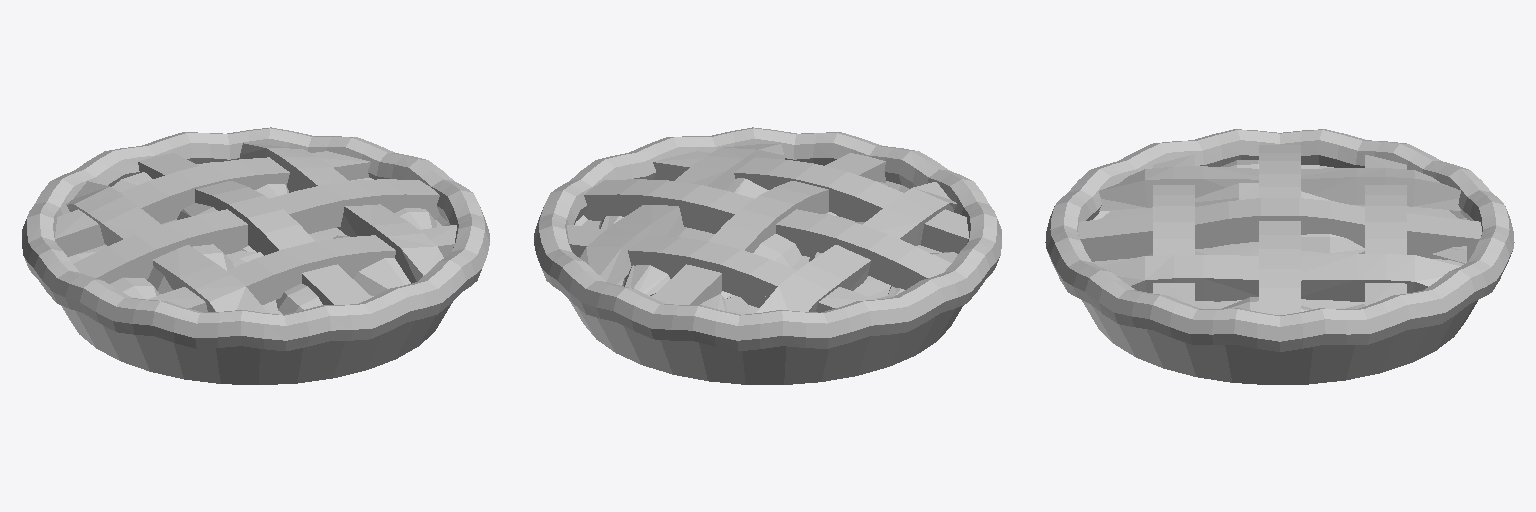
The model's file is fishPie.obj.
3 renders of one model, left to right at view 1: azimuth 30°, elevation 25°; view 2: azimuth 150°, elevation 25°; view 3: azimuth 270°, elevation 25°, orthographic.
Parts seen in each view (by area): view 1: Crust, Cube.004, Pan, Cube.001, Cube, Cube.002, Cube.003, Fish.002|Cone|Dupli|, Fish.005|Cone|Dupli|, Fish.004|Cone|Dupli|, Fish|Cone|Dupli|, FakeFishLayer (+2 smaller); view 2: Crust, Cube.004, Pan, Cube.001, Cube, Cube.002, Cube.003, FakeFishLayer, Fish.001|Cone|Dupli|, Fish.006|Cone|Dupli|; view 3: Crust, Pan, Cube, Cube.003, Cube.002, Cube.004, Cube.001, FakeFishLayer, Fish.001|Cone|Dupli|, Fish|Cone|Dupli|.
Boxes of the visible parts, <box> form: Crust: <box>22,127,489,350</box>; Cube.004: <box>55,151,456,312</box>; Pan: <box>62,302,452,384</box>; Cube.001: <box>73,179,439,283</box>; Cube: <box>138,153,371,304</box>; Cube.002: <box>66,181,267,312</box>; Cube.003: <box>239,143,443,283</box>; Fish.002|Cone|Dupli|: <box>333,235,410,296</box>; Fish.005|Cone|Dupli|: <box>233,252,322,314</box>; Fish.004|Cone|Dupli|: <box>68,251,159,299</box>; Fish|Cone|Dupli|: <box>147,244,233,293</box>; FakeFishLayer: <box>70,215,449,314</box>; Crust: <box>534,127,1001,350</box>; Cube.004: <box>567,151,968,312</box>; Pan: <box>569,300,963,384</box>; Cube.001: <box>584,179,950,289</box>; Cube: <box>652,153,885,304</box>; Cube.002: <box>756,182,956,312</box>; Cube.003: <box>580,144,784,284</box>; FakeFishLayer: <box>574,181,941,314</box>; Fish.001|Cone|Dupli|: <box>700,234,802,311</box>; Fish.006|Cone|Dupli|: <box>622,265,669,295</box>; Crust: <box>1045,129,1514,351</box>; Pan: <box>1082,300,1477,384</box>; Cube: <box>1078,198,1481,261</box>; Cube.003: <box>1100,254,1460,301</box>; Cube.002: <box>1099,166,1460,210</box>; Cube.004: <box>1153,155,1406,305</box>; Cube.001: <box>1259,145,1300,314</box>; FakeFishLayer: <box>1093,165,1464,308</box>; Fish.001|Cone|Dupli|: <box>1301,218,1466,263</box>; Fish|Cone|Dupli|: <box>1195,183,1364,206</box>.
Bounding box in the file's own units: 175 × 40.56 × 175.